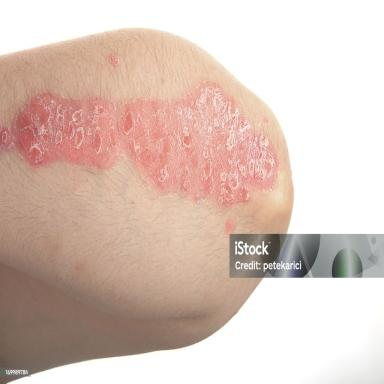Psoriasis: (0, 82, 277, 205), (224, 217, 235, 234), (109, 54, 120, 69)
